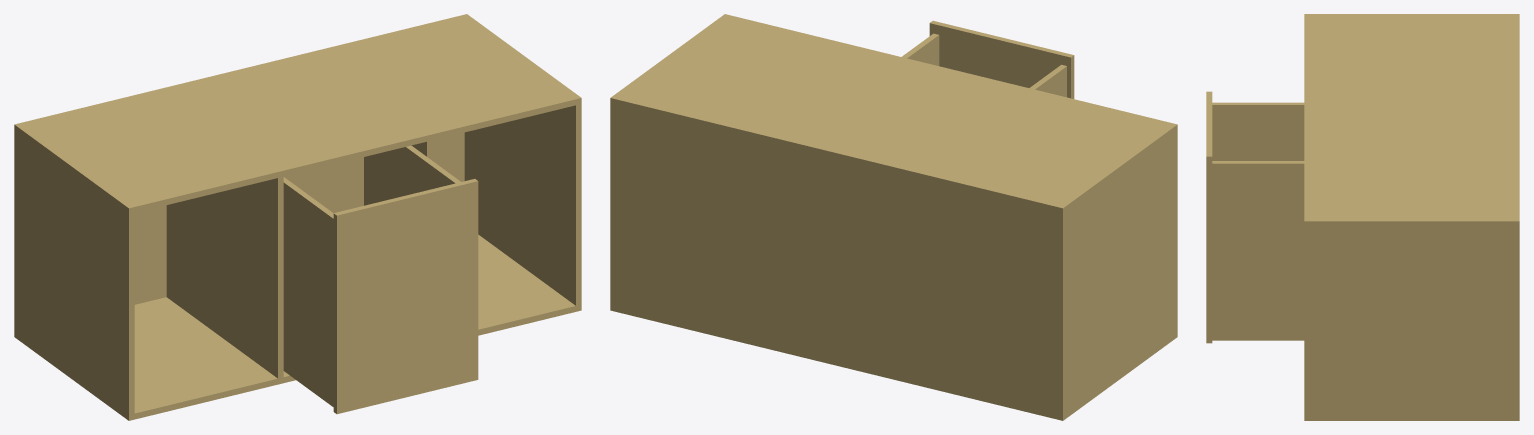
The model's file is meuble_69130fe517810.glb.
3 views of the same model, side by side, from view 1: azimuth 30°, elevation 25°; view 2: azimuth 150°, elevation 25°; view 3: azimuth 270°, elevation 25° (orthographic). The views are drawn at different scales.
Parts seen in each view (by area): view 1: world; view 2: world; view 3: world.
Part boxes in pixels (left/top/right/bottom): world: left=14, top=14, right=581, bottom=420; world: left=610, top=14, right=1177, bottom=420; world: left=1206, top=14, right=1519, bottom=420.
Size of the model in its own units: 1.5 by 0.673 by 0.958.
